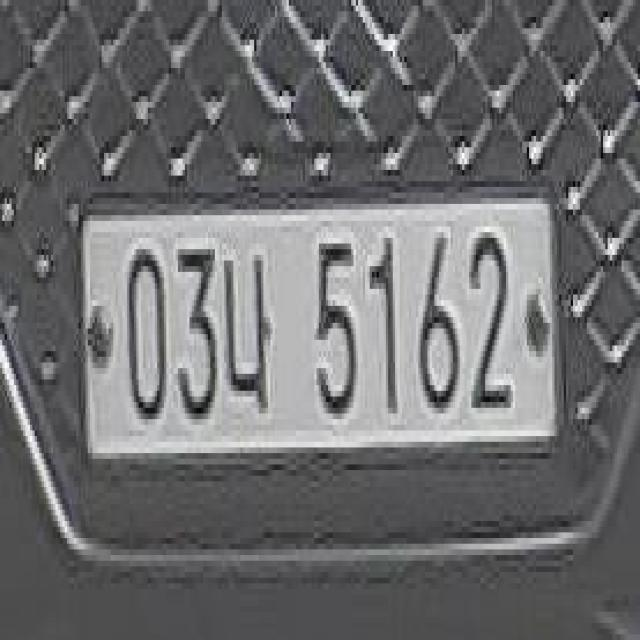illegal_plate: (84, 178, 556, 478)
